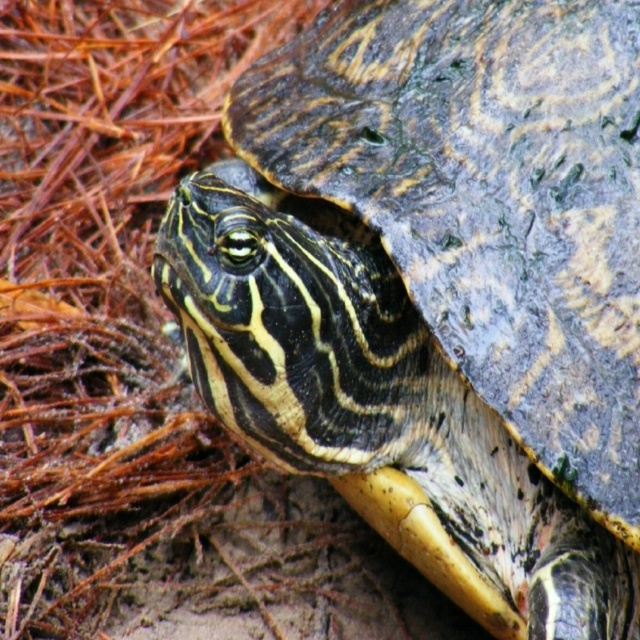Sea turtle: (150, 0, 639, 639)
